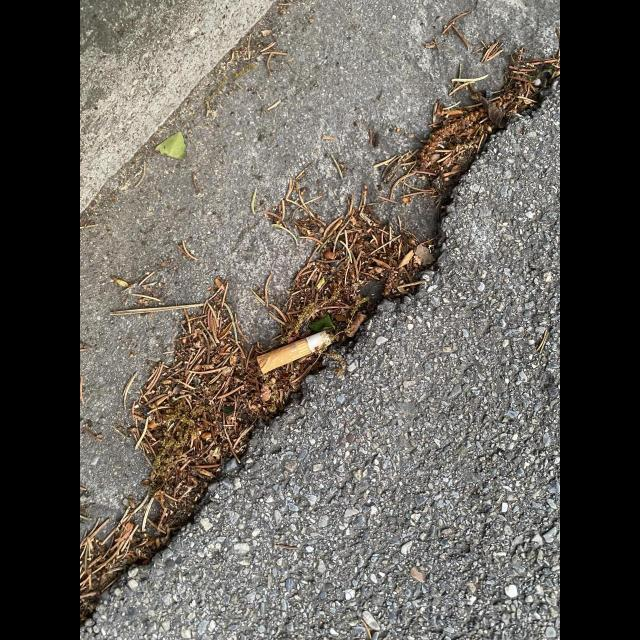cigarette: (256, 331, 332, 374)
